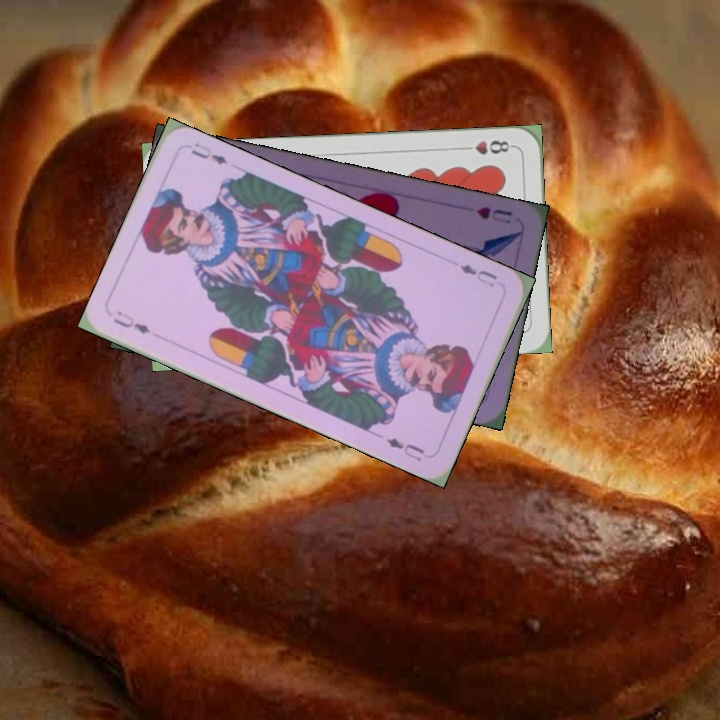EU: (109, 306, 153, 337), (455, 260, 500, 290)
H8: (457, 135, 516, 157)
HU: (472, 202, 515, 227)
